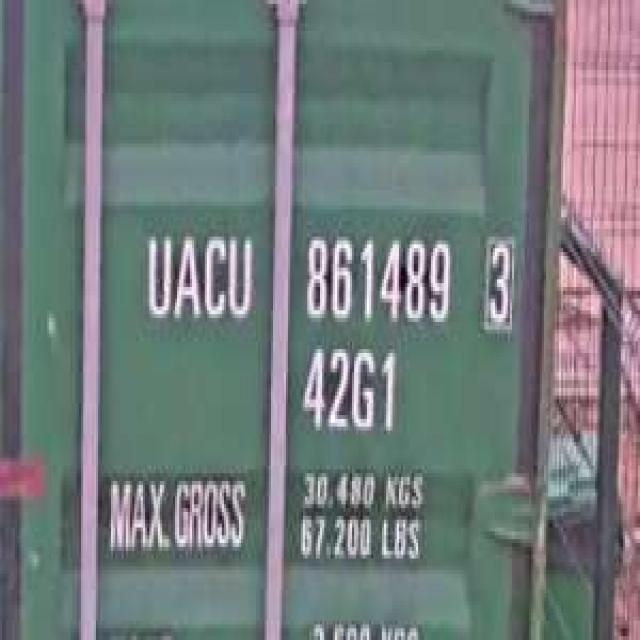dv: (478, 225, 516, 337)
owner: (139, 221, 256, 334)
serial: (296, 225, 454, 334)
size: (294, 338, 401, 442)
